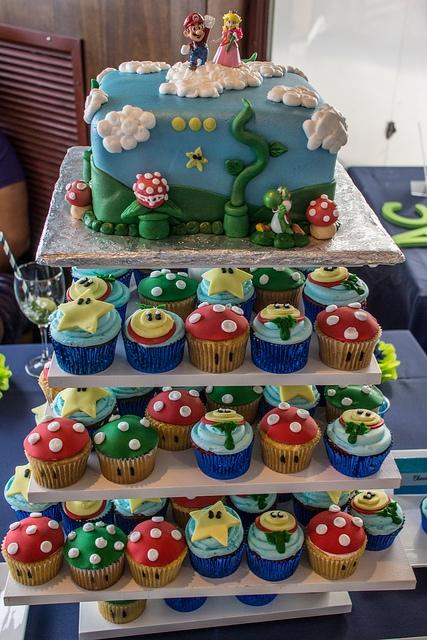mushroom: (256, 402, 322, 474), (314, 302, 382, 371), (92, 414, 159, 484), (126, 516, 188, 588), (62, 521, 126, 590), (138, 268, 197, 324), (306, 504, 366, 556), (24, 415, 90, 461), (6, 512, 64, 562), (186, 302, 250, 341), (148, 386, 206, 426), (324, 385, 384, 423), (306, 194, 339, 240), (98, 599, 147, 624), (206, 386, 263, 407), (65, 180, 93, 219), (171, 496, 223, 508), (43, 359, 52, 381)
